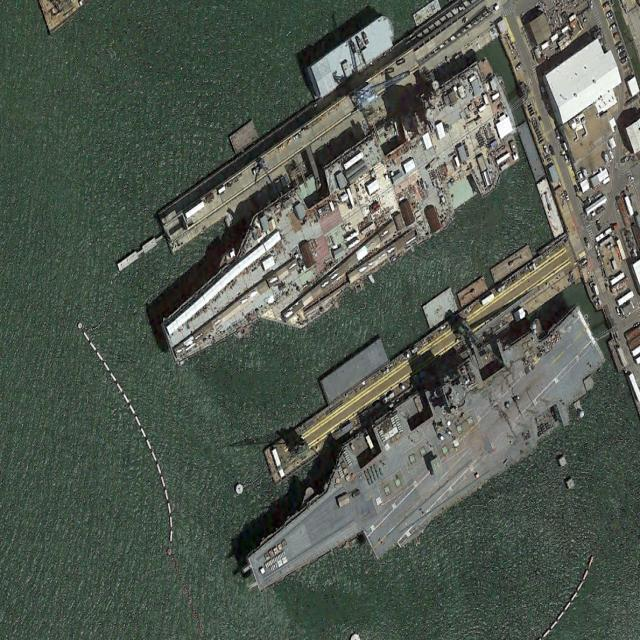Aircraft Carrier: (226, 279, 617, 640), (148, 53, 534, 406)
